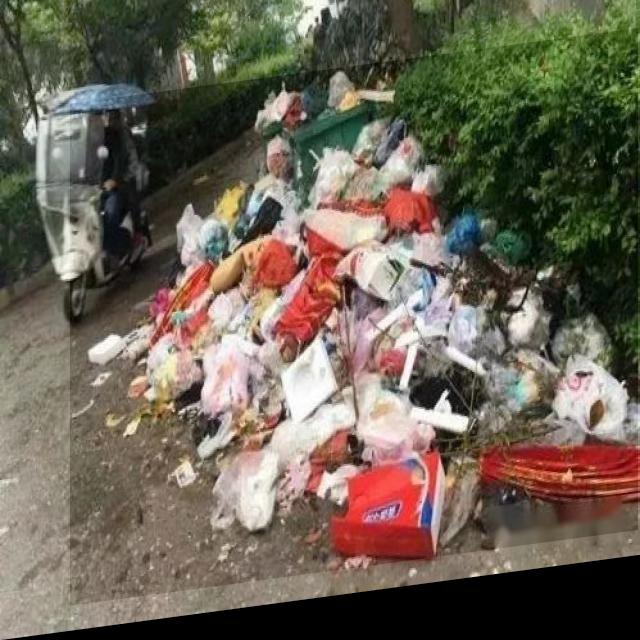garbage: (71, 46, 638, 608)
